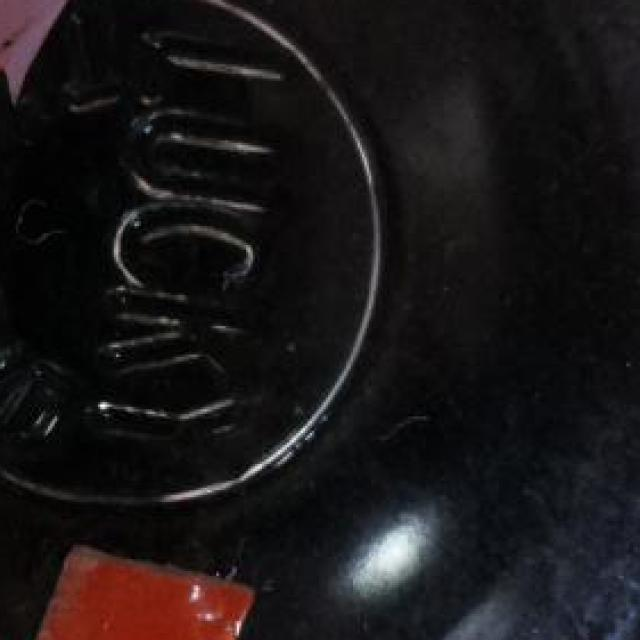Microplastic: (0, 535, 262, 640)
